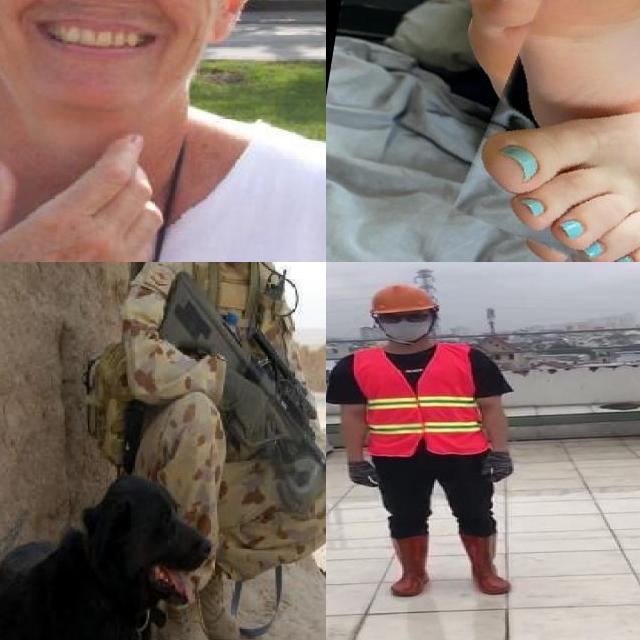Barefoots: (459, 74, 640, 262), (471, 0, 640, 187)
boots: (457, 533, 511, 596), (384, 536, 438, 596)
face_nomask: (0, 0, 218, 65)
hand_noglove: (0, 124, 164, 262)
head_helmet: (364, 282, 440, 315)
person: (115, 262, 326, 640), (326, 281, 532, 601)
shoes: (154, 581, 223, 640)
vest: (350, 343, 488, 455)
